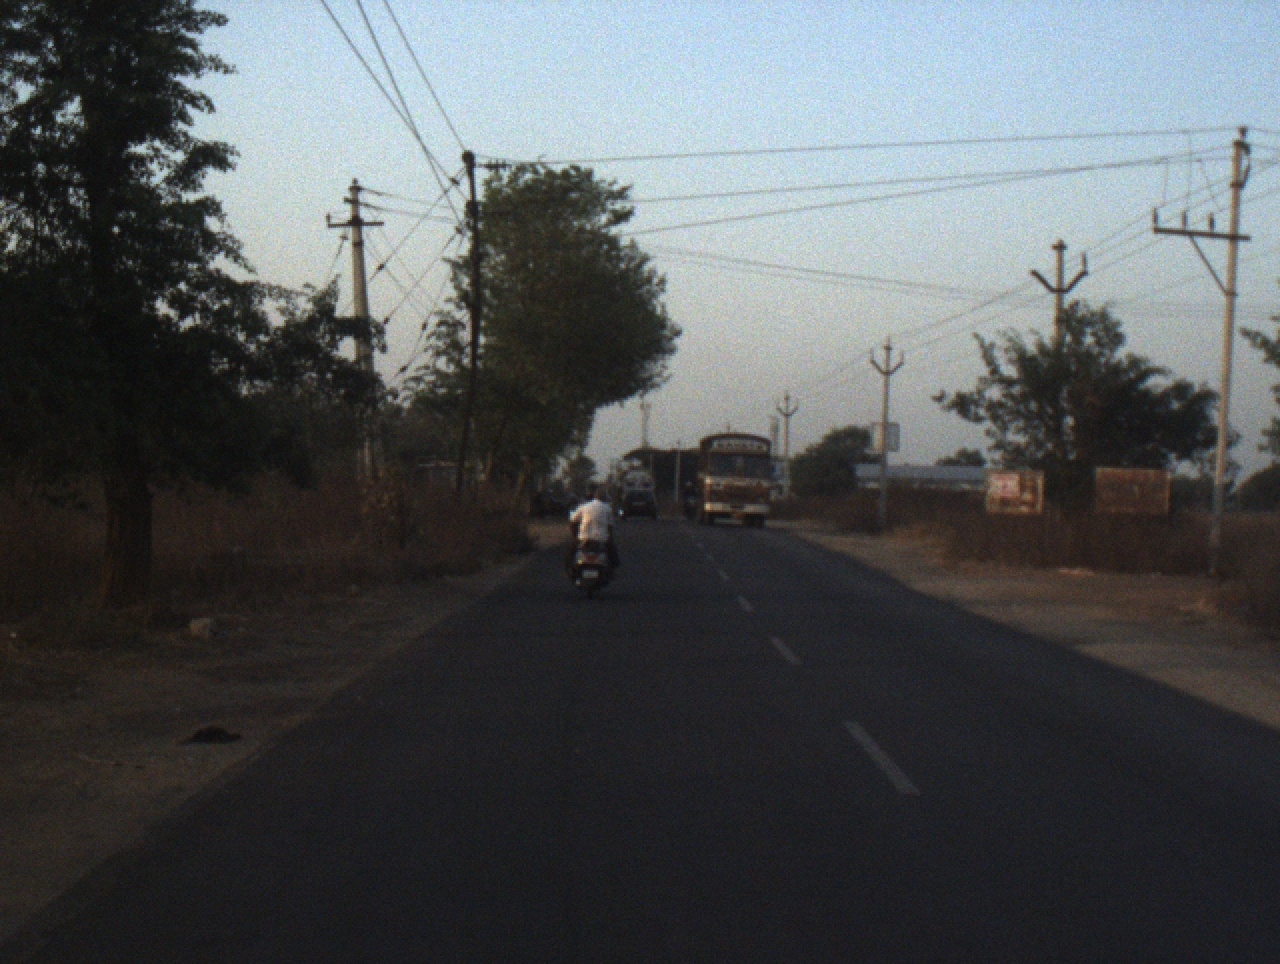car: (619, 486, 661, 528)
motorcycle: (565, 536, 617, 601), (683, 492, 698, 521)
rider: (565, 480, 620, 582), (583, 479, 598, 503), (682, 476, 696, 499)
truck: (691, 428, 779, 530)
vehicle fallback: (609, 454, 658, 506)
